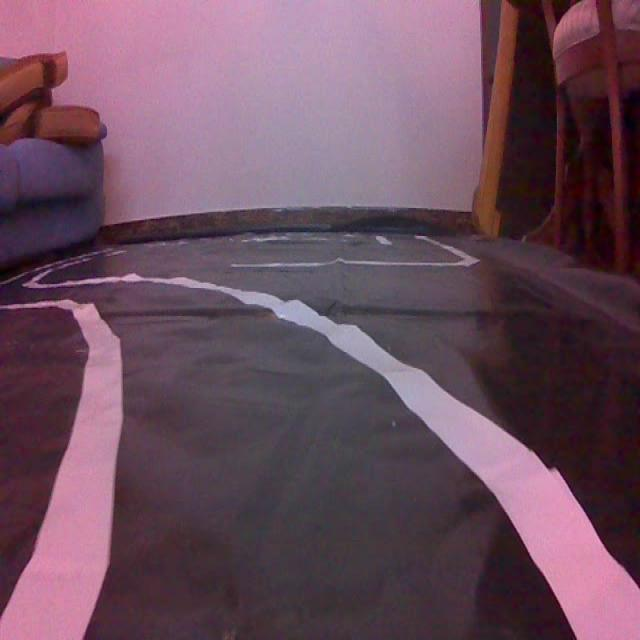LineaCarril: (205, 288, 640, 638), (0, 300, 122, 638)
